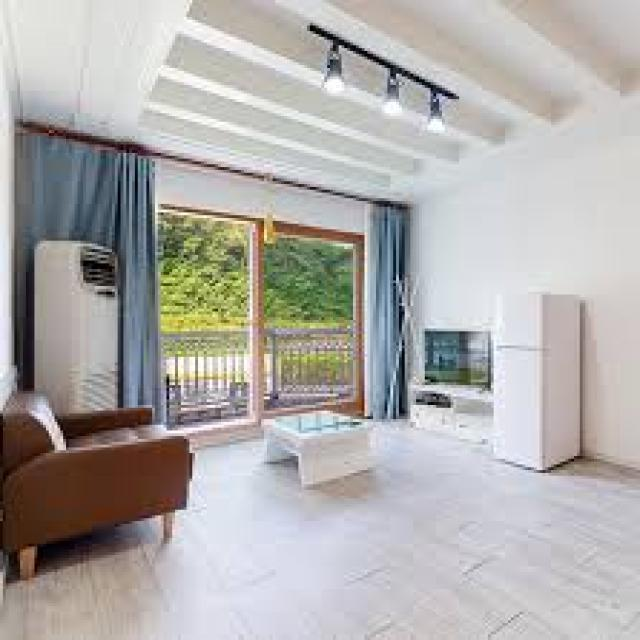Sofa: (9, 386, 194, 570)
Table: (259, 408, 382, 486)
tv: (415, 329, 491, 385)
window: (145, 196, 370, 413)
